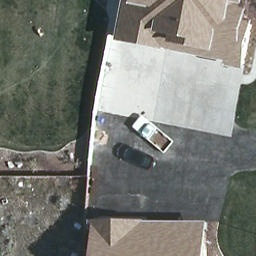car: (115, 142, 156, 171)
pickup: (131, 114, 173, 155)
